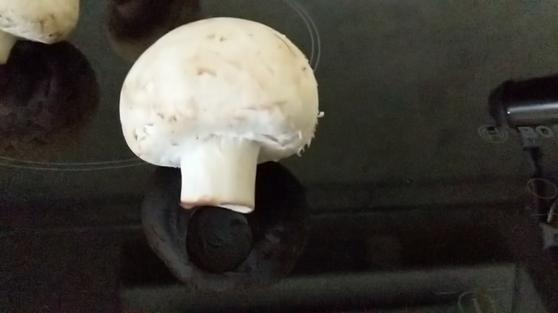champignon: (119, 14, 321, 213)
